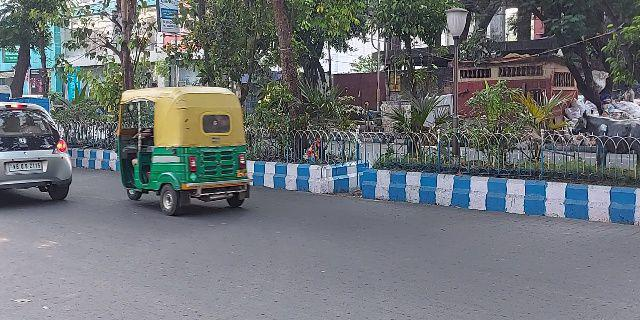Autorickshaw: (115, 85, 256, 214)
Car: (1, 98, 75, 204)
